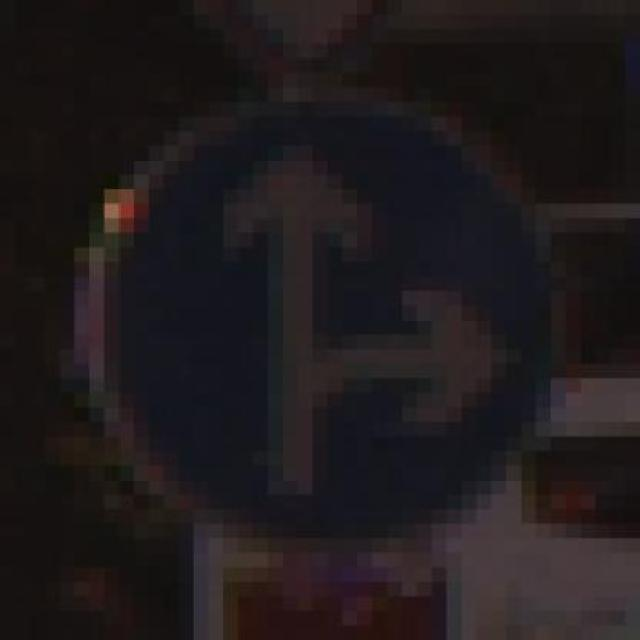Go Straight or Turn Right: (59, 87, 581, 582)
